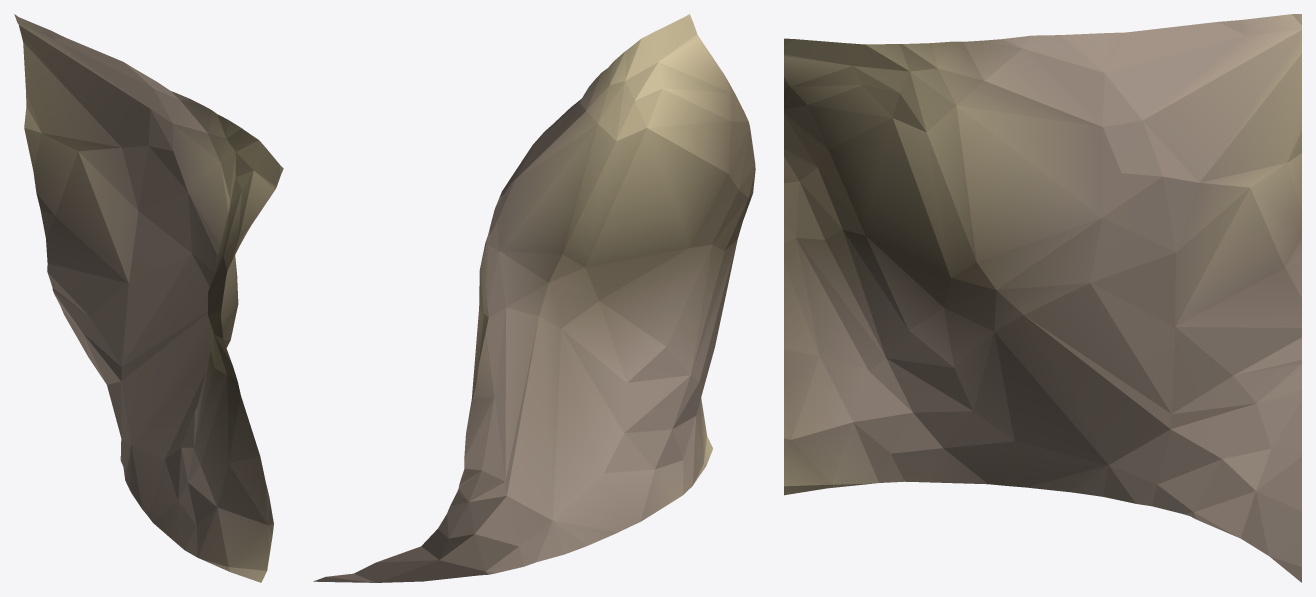
File: bisect-8-2-7.gltf
The picture shows the model from 3 angles, left to right: view 1: azimuth 30°, elevation 25°; view 2: azimuth 150°, elevation 25°; view 3: azimuth 270°, elevation 25°; orthographic projection. The views are drawn at different scales.
Visible parts, largest first — view 1: bisect-8-2-7; view 2: bisect-8-2-7; view 3: bisect-8-2-7.
Part boxes in pixels (x1,y1,x2,y2): bisect-8-2-7: (14, 14, 283, 582); bisect-8-2-7: (313, 14, 755, 582); bisect-8-2-7: (784, 14, 1301, 582).
Size of the model in its own units: 10.09 by 20 by 20.
